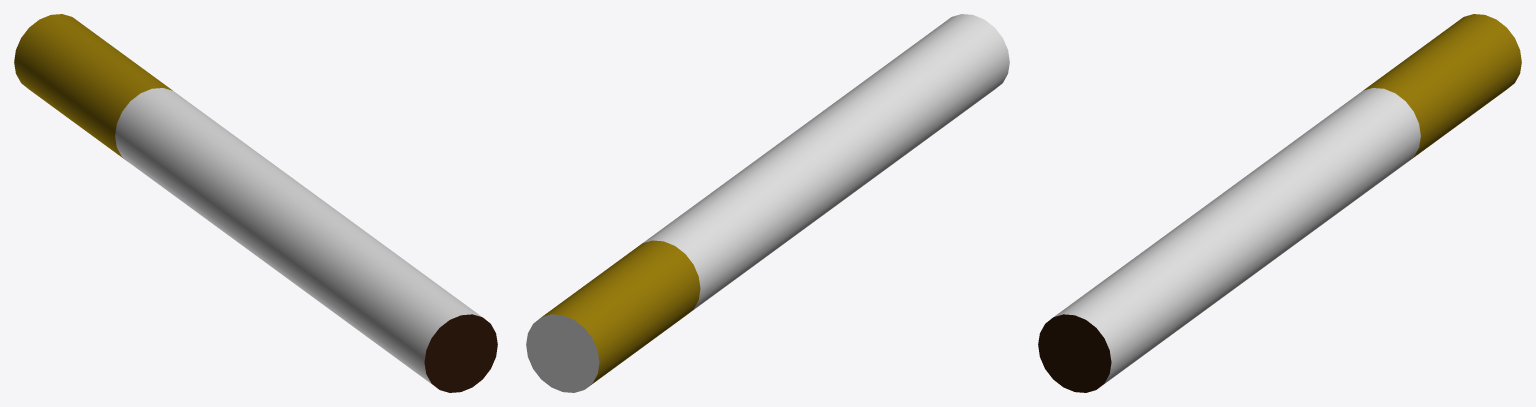
File: cig.fbx
3 renders of one model, left to right at view 1: azimuth 30°, elevation 25°; view 2: azimuth 150°, elevation 25°; view 3: azimuth 330°, elevation 25°, orthographic.
Visible parts, largest first — view 1: pCylinder1; view 2: pCylinder1; view 3: pCylinder1.
Boxes of the visible parts, x1,y1,x2,y2 form: pCylinder1: (14, 14, 497, 392); pCylinder1: (526, 14, 1009, 392); pCylinder1: (1038, 14, 1521, 392).
Size of the model in its own units: 0.425 by 0.425 by 4.11.
